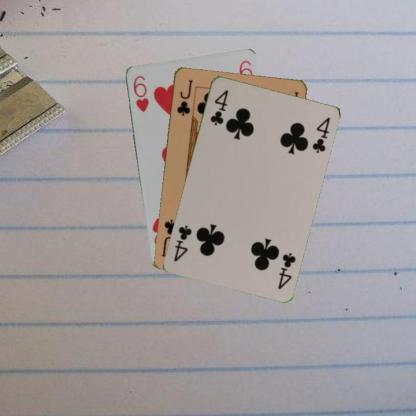4c: (207, 86, 230, 126), (275, 250, 297, 290)
6h: (130, 73, 150, 113)
Jc: (174, 76, 193, 117)
